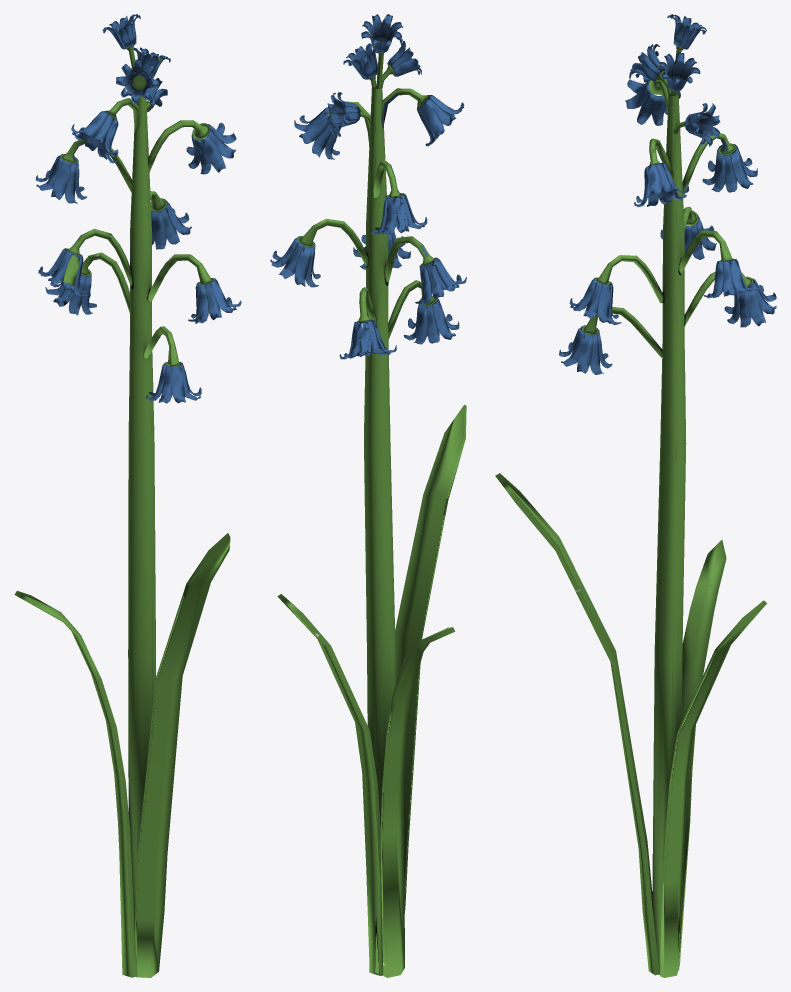
The model's file is BlueBell_LP.fbx.
The picture shows the model from 3 angles, left to right: view 1: azimuth 30°, elevation 25°; view 2: azimuth 150°, elevation 25°; view 3: azimuth 270°, elevation 25°; orthographic projection.
Visible parts, largest first — view 1: Bluebell; view 2: Bluebell; view 3: Bluebell.
Part boxes in pixels (x1,y1,x2,y2): Bluebell: [14, 14, 241, 977]; Bluebell: [270, 14, 466, 977]; Bluebell: [495, 14, 776, 977].
Bounding box in the file's own units: 1.82 × 8.85 × 2.37.
Materials: 1 (1 with a texture image).
